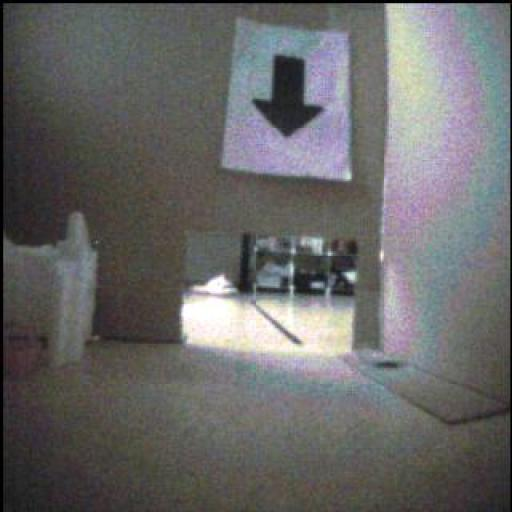arrow: (254, 55, 324, 137)
